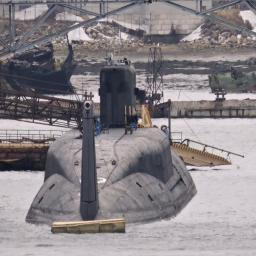submarine: (24, 58, 201, 223)
